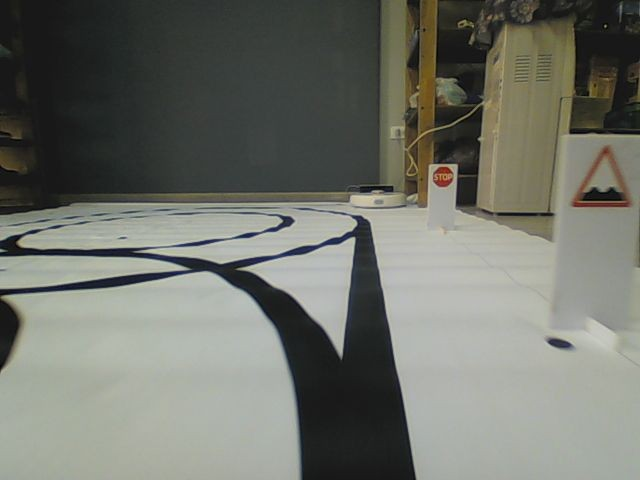Stop: (432, 166, 454, 187)
